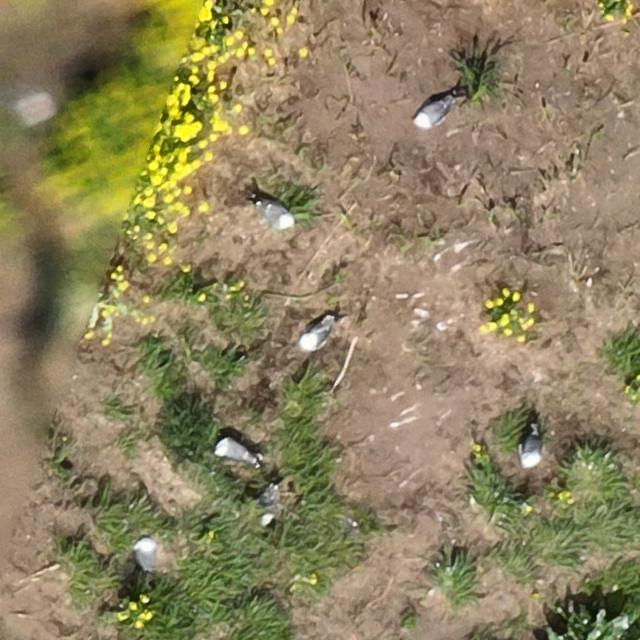umineko: (257, 478, 281, 526), (417, 100, 450, 128), (300, 320, 330, 349), (258, 202, 291, 226), (216, 440, 251, 461), (521, 430, 540, 464), (135, 538, 155, 570)
